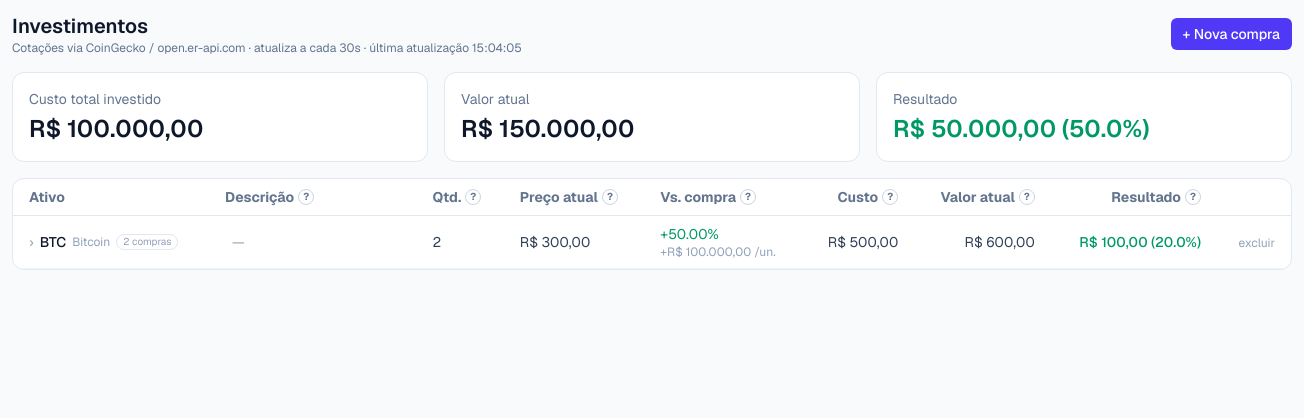
Scenario: página /investimentos — compras de um ativo › expande ao clicar no símbolo e mostra uma linha por compra
This screenshot has width=1304, height=418.
Expected: the text "BTC" is shown, [40, 232, 66, 252]
Click the button with aria-label "compras de BTC" at [104, 242], box [29, 232, 178, 252]
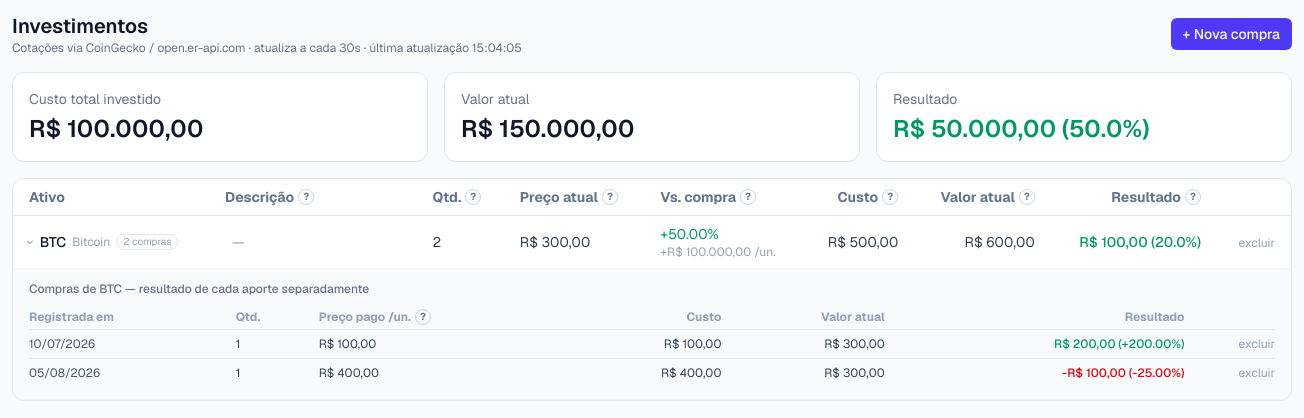
Expected: the text "R$ 100,00" is shown, [1079, 233, 1201, 251]
Expected: the text "Compras de BTC — resultado de cada aporte separadamente" is shown, [29, 281, 369, 297]
Expected: the text "R$ 400,00" is shown, [319, 358, 581, 387]
